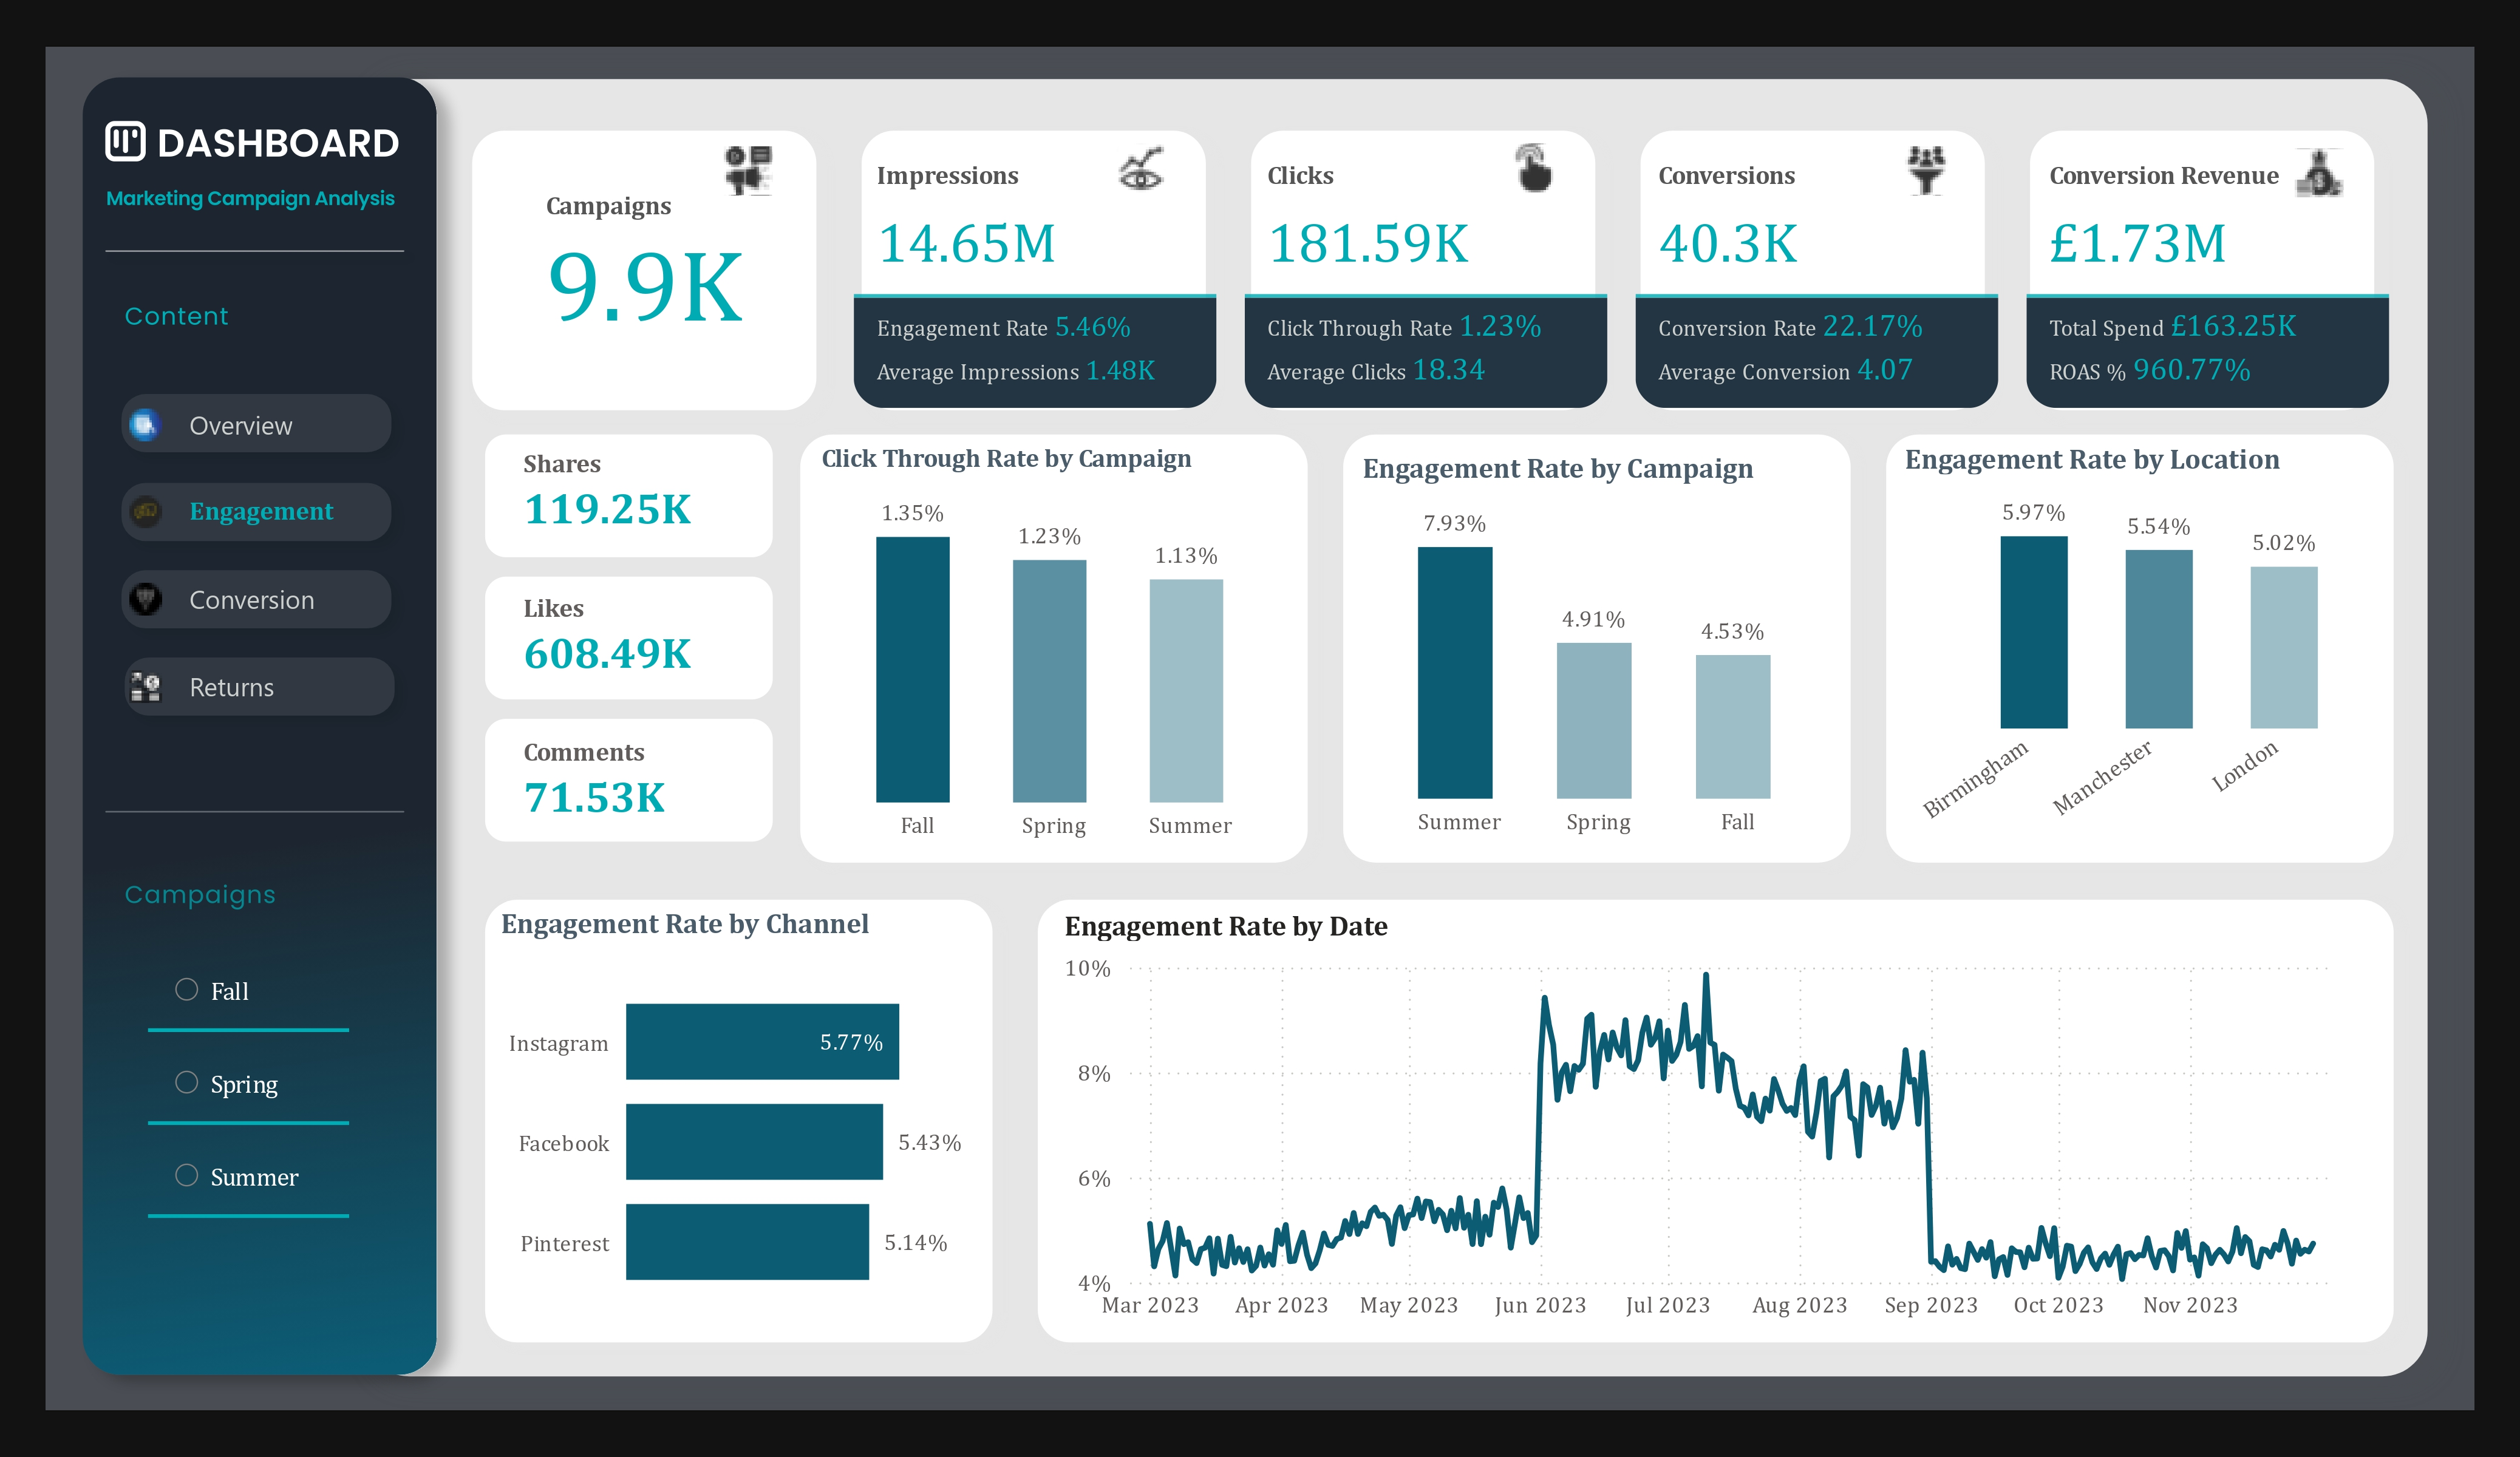

Layout of this report page (visuals, bound fields, positions):
{"tool":"powerbi","page":{"name":"Engagement","canvas":[1280,720],"ordinal":1},"visuals":[{"type":"clusteredColumnChart","fields":{"Category":["marketing.Campaign"],"Y":["_measures.Engagement Rate"]},"box":[689.1,213.6,259.1,211.8],"z":0},{"type":"clusteredBarChart","fields":{"Category":["marketing.Channel"],"Y":["_measures.Engagement Rate"]},"box":[235.5,453.6,254.5,225.5],"z":1000},{"type":"lineChart","fields":{"Category":["Calendar.Date"],"Y":["_measures.Engagement Rate"]},"box":[531.8,454.5,694.5,225.5],"z":2000},{"type":"clusteredColumnChart","fields":{"Category":["marketing.Location"],"Y":["_measures.Engagement Rate"]},"box":[975.5,209.1,257.3,218.2],"z":3000},{"type":"clusteredColumnChart","fields":{"Category":["marketing.Campaign"],"Y":["_measures.Click Through Rate"]},"box":[403.6,209.1,255.5,218.2],"z":4000},{"type":"pageNavigator","box":[76.2,185.5,97.4,166.9],"z":5000},{"type":"advancedSlicerVisual","fields":{"Values":["marketing.Campaign"]},"box":[49.4,471.1,115.6,153.5],"z":6000},{"type":"cardVisual","fields":{"Data":["Sum(marketing.Shares)","Sum(marketing.Likes (Reactions))","Sum(marketing.Comments)"]},"box":[235.5,195.5,141.8,229.1],"z":7000},{"type":"cardVisual","fields":{"Data":["_measures.Campaigns","_measures.Total Impressions","_measures.Total Clicks","_measures.Total Conversions","_measures.Total Conversion Revenue"]},"box":[215.5,36.4,1024.5,160],"z":7500}]}

Visuals, with their boxes in screenshot pixels (x1, y1, x2, y2):
clusteredColumnChart - marketing.Campaign x _measures.Engagement Rate: (x1=1353, y1=450, x2=1845, y2=852)
clusteredBarChart - marketing.Channel x _measures.Engagement Rate: (x1=492, y1=906, x2=975, y2=1334)
lineChart - Calendar.Date x _measures.Engagement Rate: (x1=1055, y1=908, x2=2372, y2=1336)
clusteredColumnChart - marketing.Location x _measures.Engagement Rate: (x1=1896, y1=442, x2=2385, y2=856)
clusteredColumnChart - marketing.Campaign x _measures.Click Through Rate: (x1=811, y1=442, x2=1296, y2=856)
pageNavigator: (x1=190, y1=398, x2=375, y2=714)
advancedSlicerVisual - marketing.Campaign: (x1=139, y1=939, x2=359, y2=1231)
cardVisual - Sum(marketing.Shares) x Sum(marketing.Likes (Reactions)): (x1=492, y1=416, x2=761, y2=851)
cardVisual - _measures.Campaigns x _measures.Total Impressions: (x1=454, y1=115, x2=2399, y2=418)
